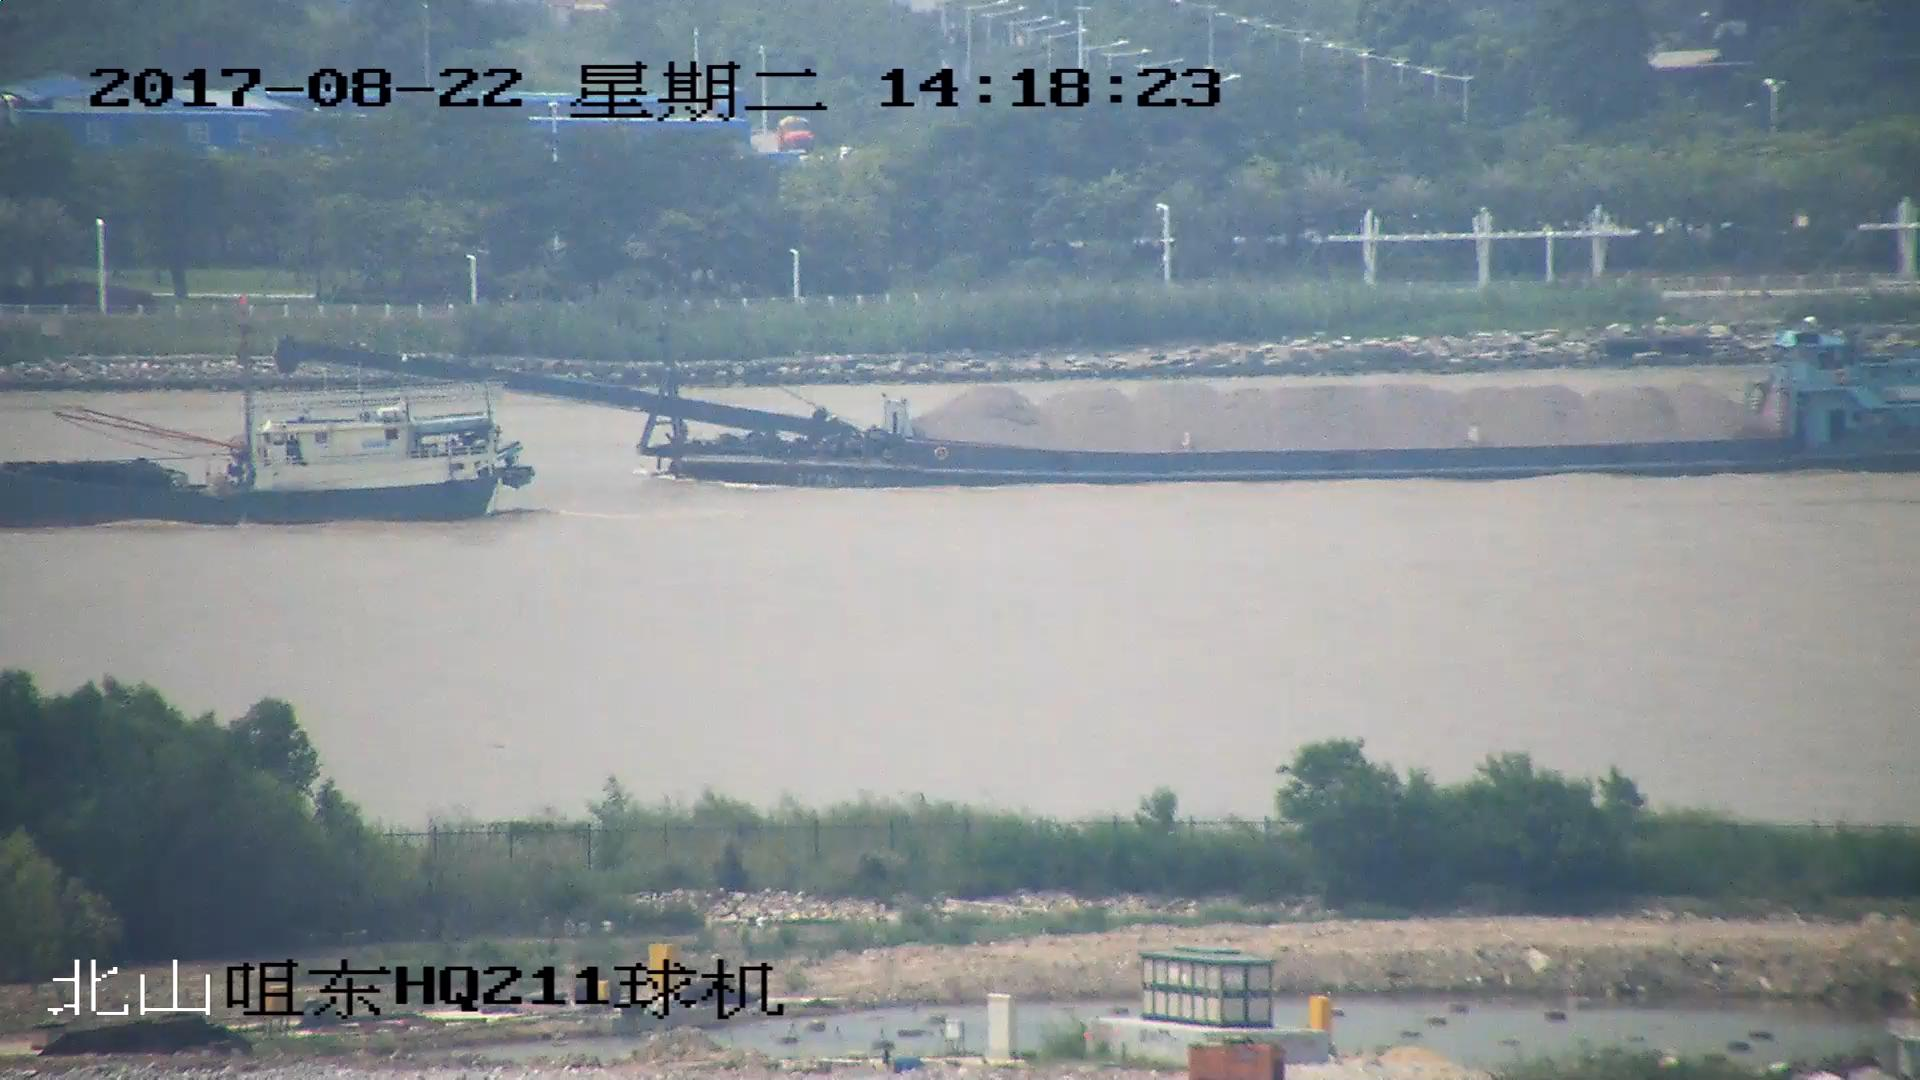fishing boat: (1, 292, 538, 524)
ore carrier: (278, 316, 1920, 481)
